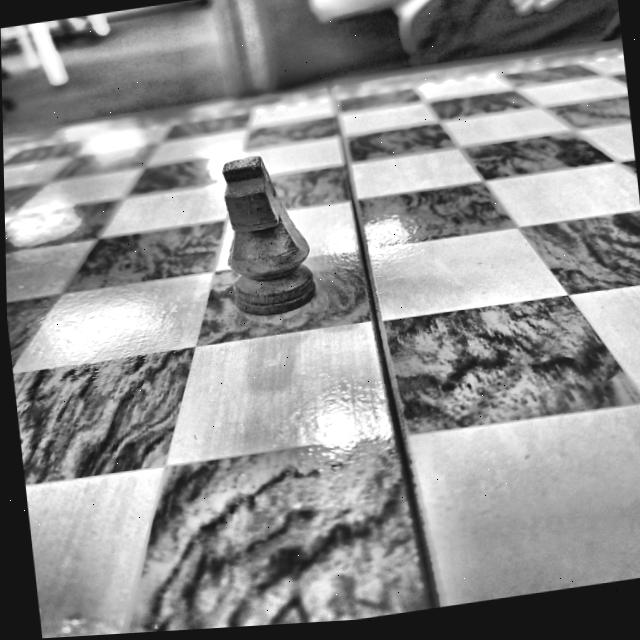black-knight: (221, 155, 315, 314)
